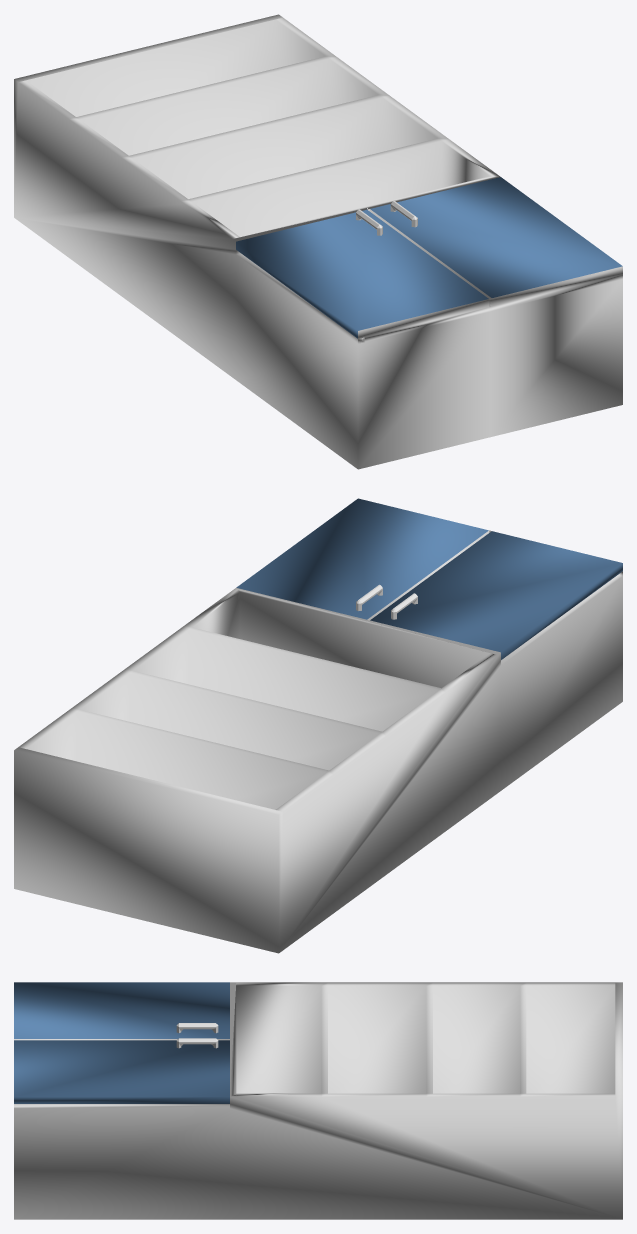
The picture shows the model from 3 angles, top to bottom: view 1: azimuth 30°, elevation 25°; view 2: azimuth 150°, elevation 25°; view 3: azimuth 270°, elevation 25°; orthographic projection. The views are drawn at different scales.
Parts seen in each view (by area): view 1: Cube; view 2: Cube; view 3: Cube.
Boxes of the visible parts, x1,y1,x2,y2 form: Cube: [14, 14, 622, 469]; Cube: [14, 498, 622, 953]; Cube: [14, 982, 622, 1219].
Size of the model in its own units: 80 by 42.82 by 180.
